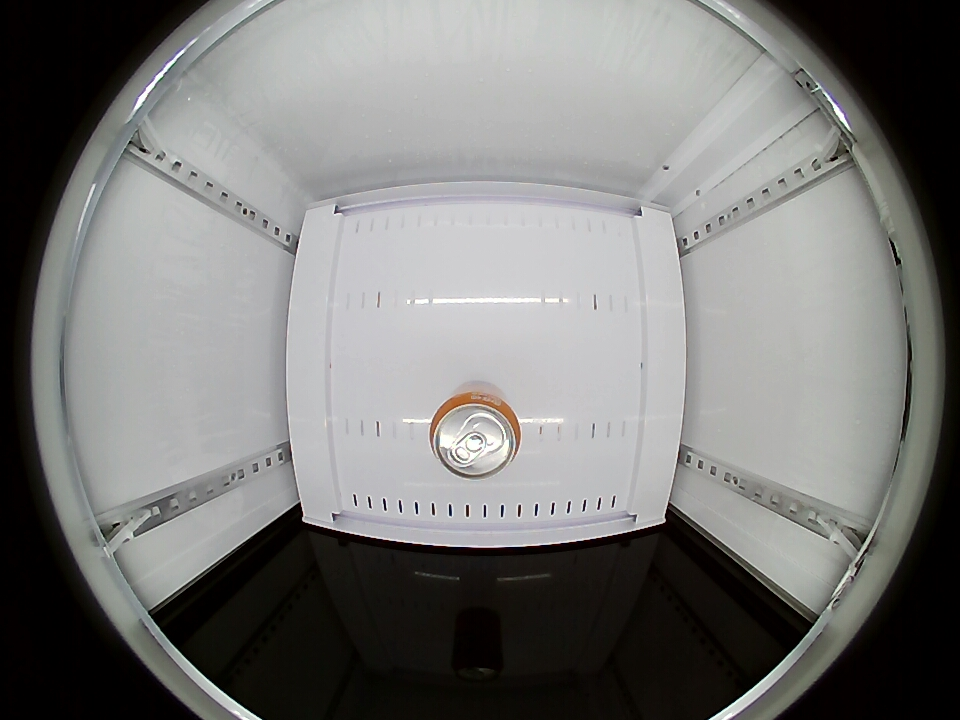fenda: (429, 389, 522, 480)
